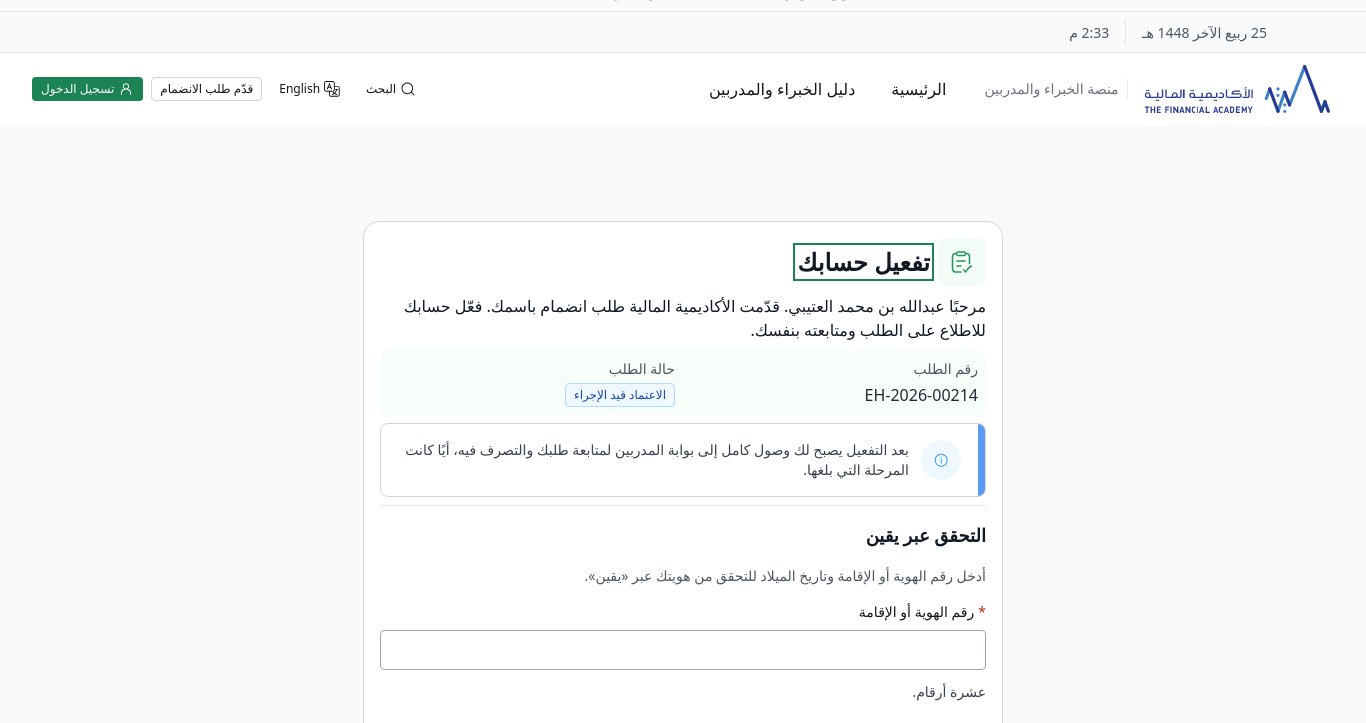
J-02/F4 — Nominee Account Activation & Portal Access › J-02/F4/AC-1: a citizen/resident with no matched account verifies through Yaqeen
The image size is (1366, 723).
Expected: the heading "تفعيل حسابك" is shown, [798, 247, 930, 277]
Expected: the heading "التحقق عبر يقين" is shown, [866, 523, 986, 547]
Type "1000000004" into the field labelled "رقم الهوية أو الإقامة" at (687, 650), box [397, 631, 977, 669]
(page scrolled)
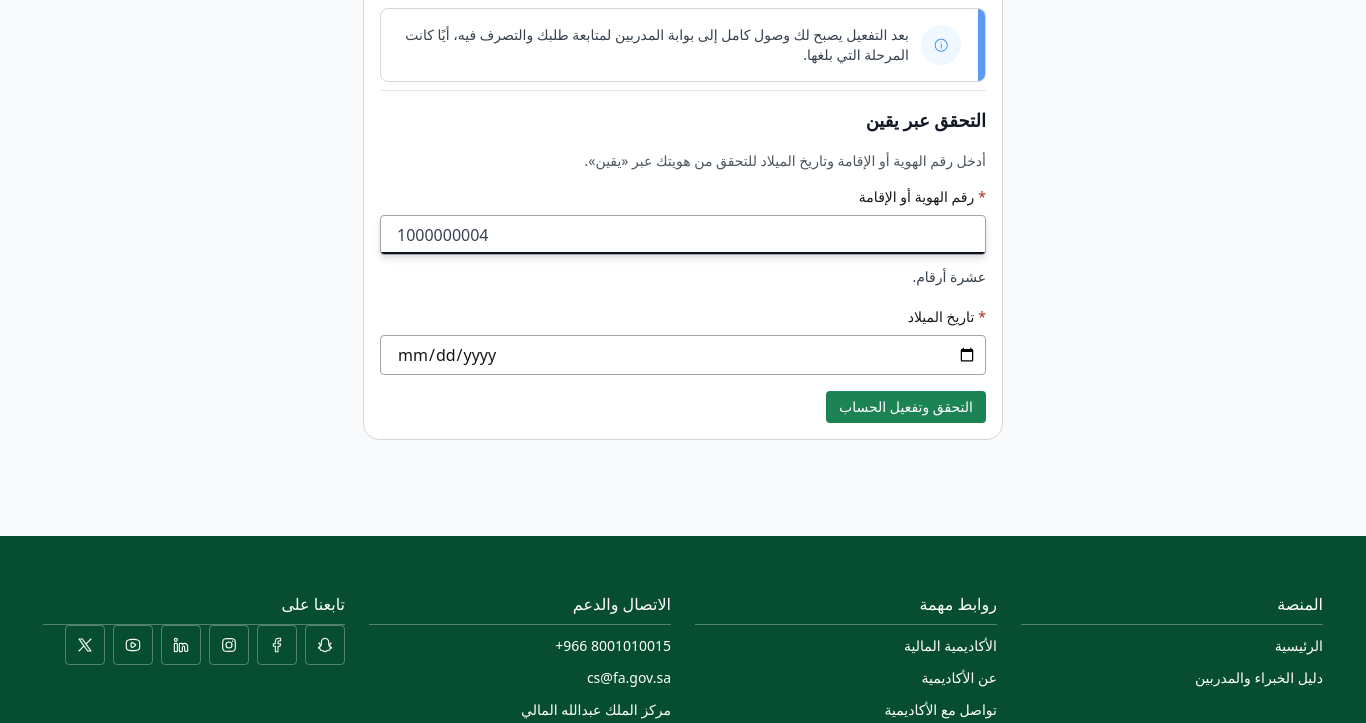
Type "1990-01-01" into the date field labelled "تاريخ الميلاد" at (687, 355), box [397, 336, 977, 374]
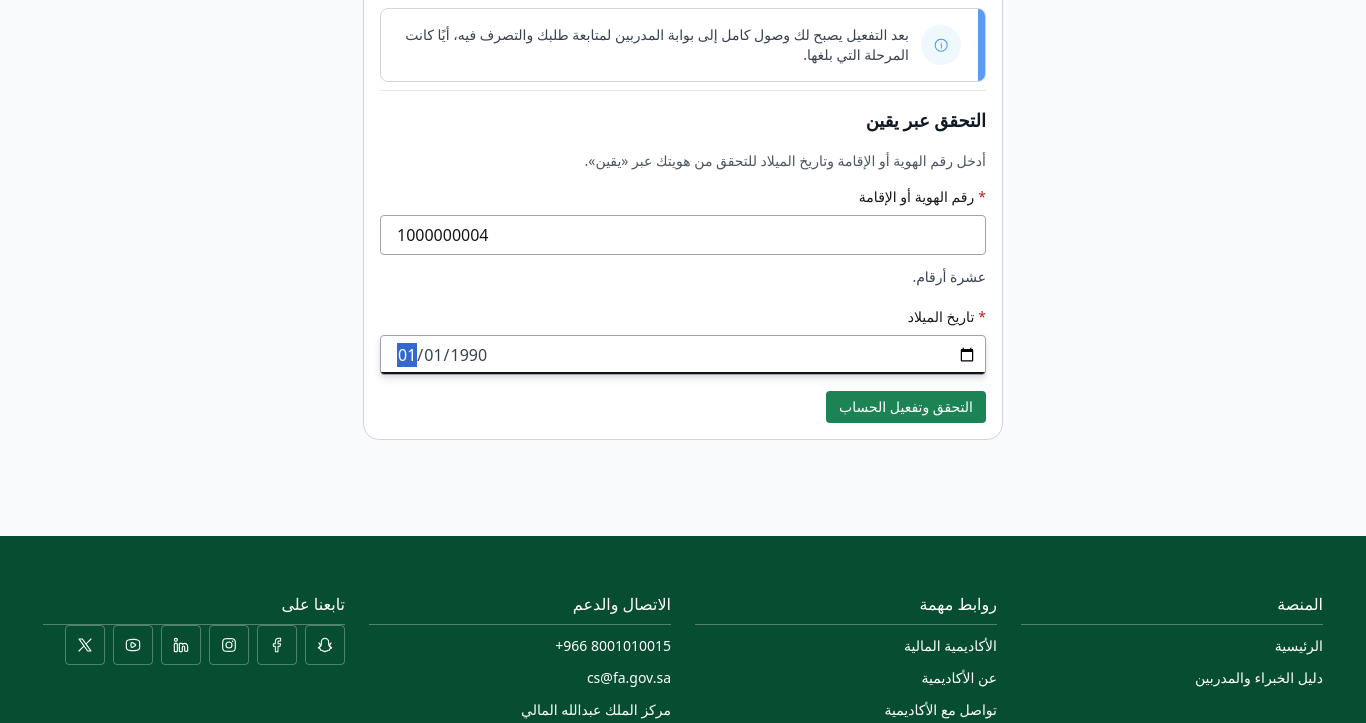
Click the button "التحقق وتفعيل الحساب" at (906, 407), box [826, 391, 986, 423]
(page scrolled)
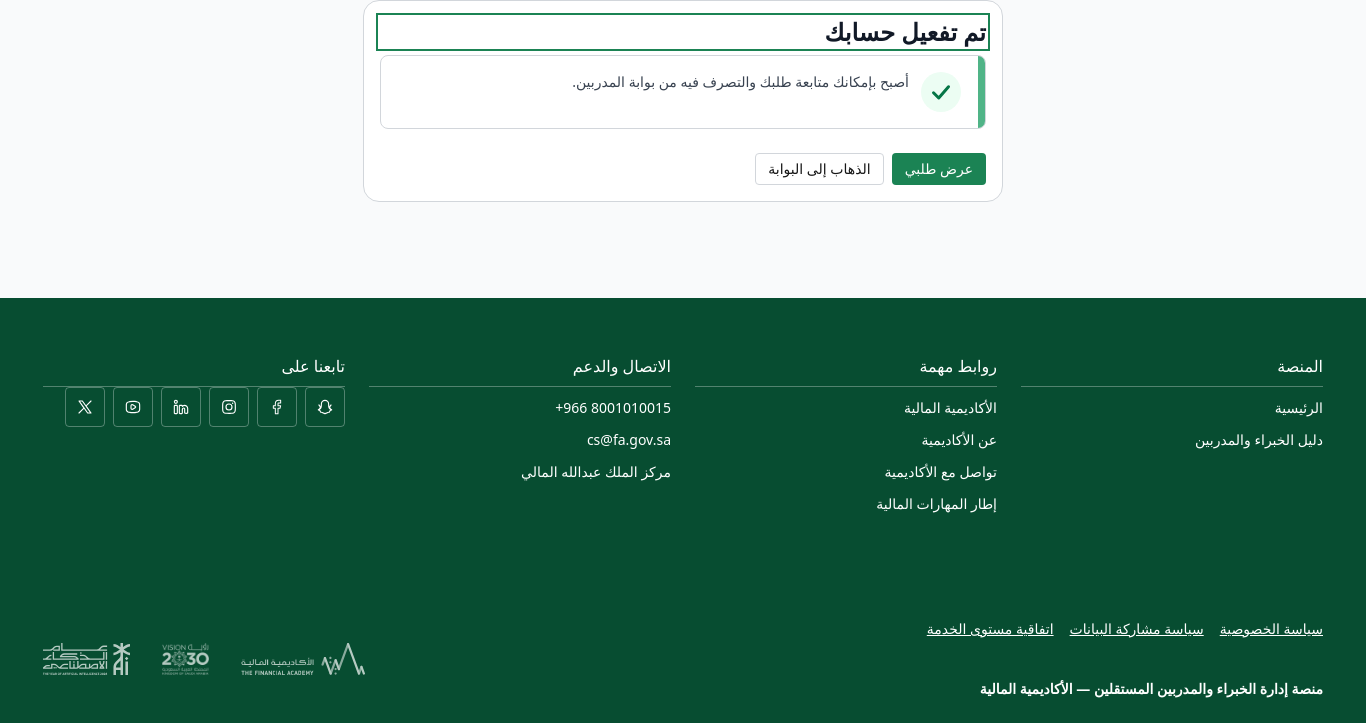
Result: the heading "تم تفعيل حسابك" is shown at [825, 15, 986, 48]
